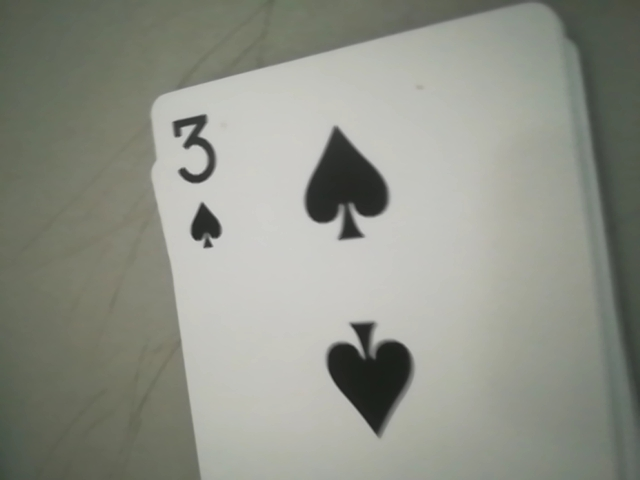ht 3: (154, 110, 257, 262)
